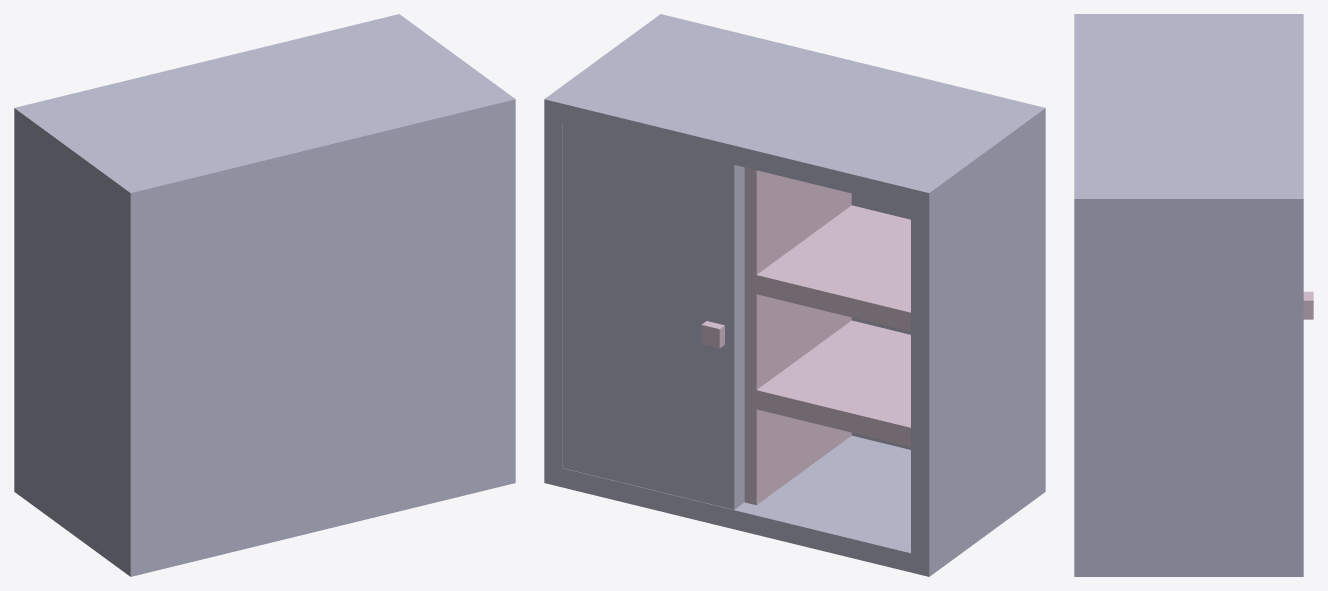
File: wardrobe_2.fbx
3 views of the same model, side by side, from view 1: azimuth 30°, elevation 25°; view 2: azimuth 150°, elevation 25°; view 3: azimuth 270°, elevation 25° (orthographic).
Visible parts, largest first — view 1: pCube1; view 2: pCube1; view 3: pCube1.
Part boxes in pixels (x1,y1,x2,y2): pCube1: (14, 14, 515, 576); pCube1: (544, 14, 1045, 576); pCube1: (1074, 14, 1313, 576).
Bounding box in the file's own units: 21 × 20 × 11.47.
